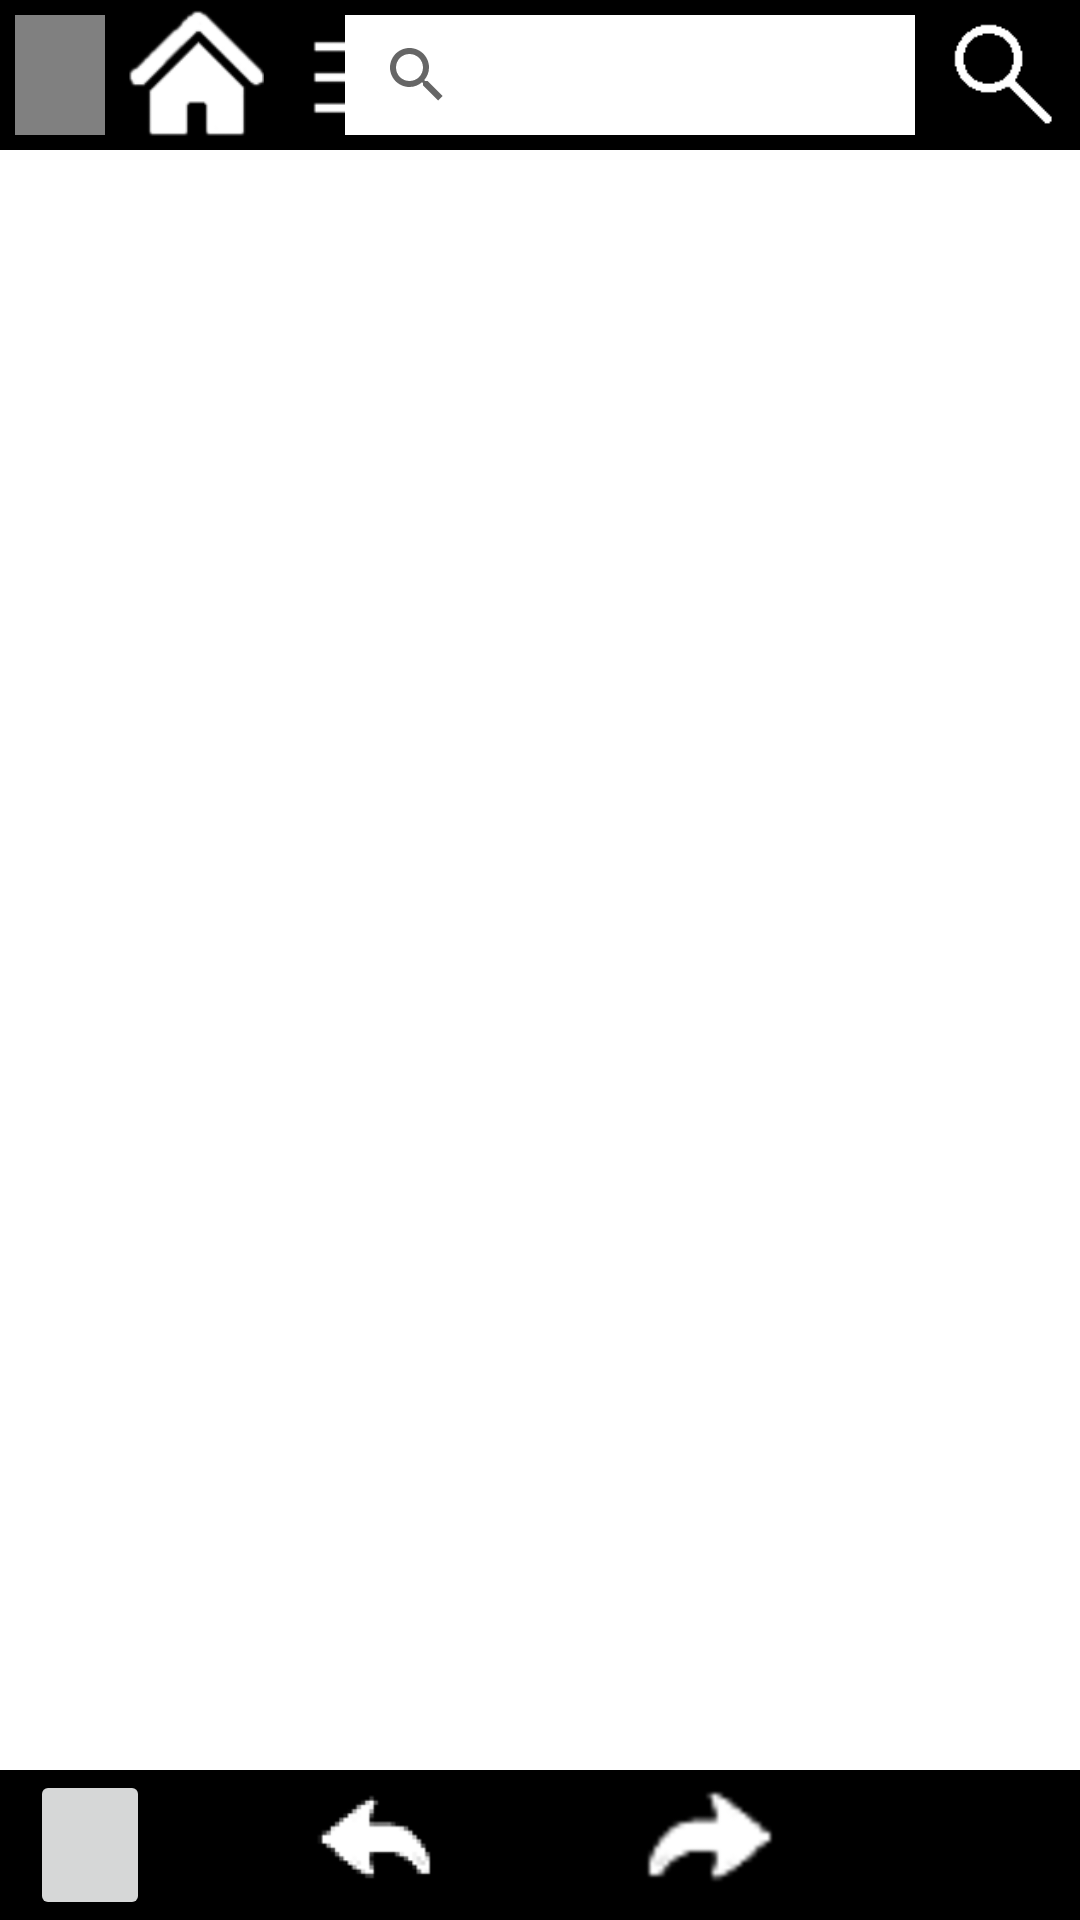

Locate icon controls on the screen. Image size 1080px x 1920px, boxes as (x1, y1, x2, y2).
left arrow: (319, 1796, 431, 1878)
right arrow: (647, 1791, 772, 1881)
This button is used to open/close the search bar: (954, 24, 1052, 124)
This button is used to return to the home screen of the app: (129, 11, 264, 136)
